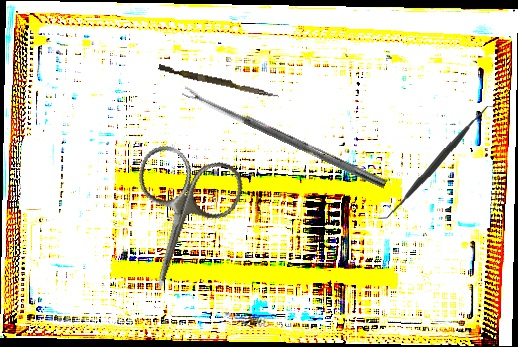Iris Scissors: (107, 139, 250, 305)
Pusher: (157, 64, 281, 99)
Spatula Surgical: (377, 102, 496, 223)
Surgical Spoon: (181, 85, 388, 189)
